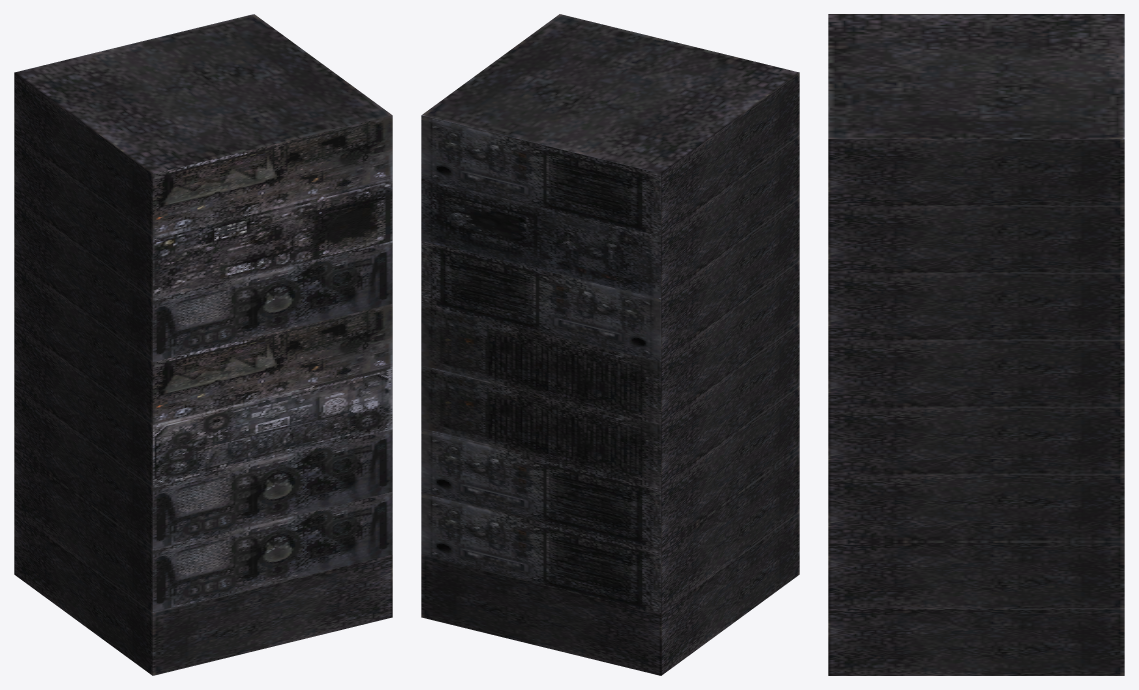
Rendered from Radio01X.glb.
3 renders of one model, left to right at view 1: azimuth 30°, elevation 25°; view 2: azimuth 150°, elevation 25°; view 3: azimuth 270°, elevation 25°, orthographic. The views are drawn at different scales.
Parts seen in each view (by area): view 1: _Radio01X; view 2: _Radio01X; view 3: _Radio01X.
Boxes of the visible parts, x1,y1,x2,y2 form: _Radio01X: [14, 14, 392, 675]; _Radio01X: [421, 14, 799, 675]; _Radio01X: [828, 14, 1124, 675].
Bounding box in the file's own units: 1 × 2 × 1.
1 material, 1 textured.
